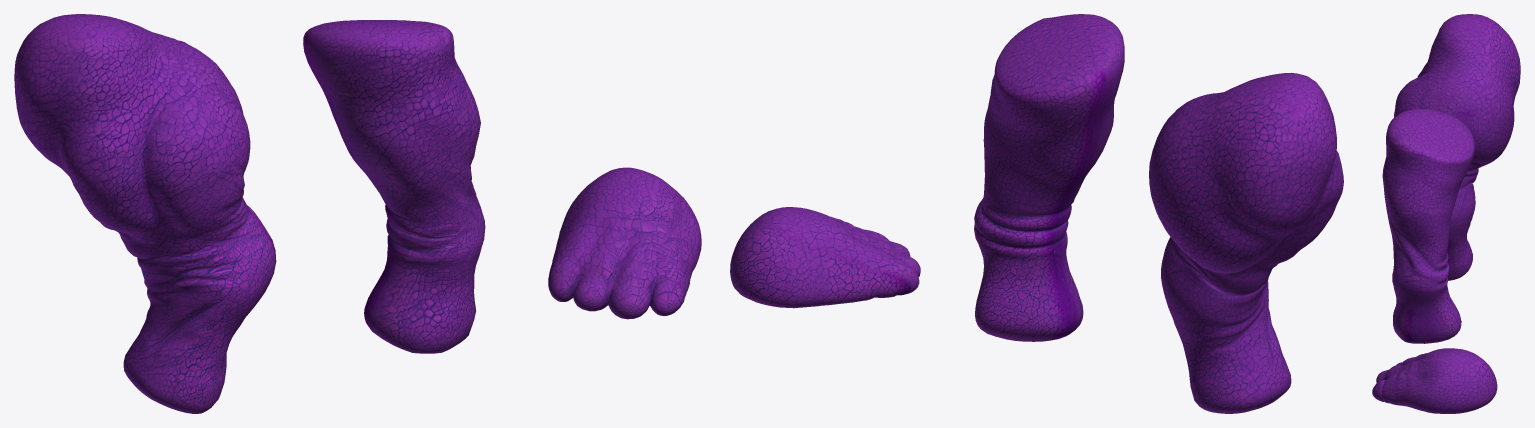
The model's file is quadruped_legs.glb.
The picture shows the model from 3 angles, left to right: view 1: azimuth 30°, elevation 25°; view 2: azimuth 150°, elevation 25°; view 3: azimuth 270°, elevation 25°; orthographic projection. The views are drawn at different scales.
Parts seen in each view (by area): view 1: tripo_node_778d5825-de34-4943-9d63-72d9259e9b56; view 2: tripo_node_778d5825-de34-4943-9d63-72d9259e9b56; view 3: tripo_node_778d5825-de34-4943-9d63-72d9259e9b56.
Boxes of the visible parts, left/top/right/bottom form: tripo_node_778d5825-de34-4943-9d63-72d9259e9b56: left=14, top=14, right=701, bottom=413; tripo_node_778d5825-de34-4943-9d63-72d9259e9b56: left=730, top=14, right=1343, bottom=413; tripo_node_778d5825-de34-4943-9d63-72d9259e9b56: left=1372, top=14, right=1520, bottom=413.
Bounding box in the file's own units: 0.9995 × 0.5679 × 0.3237.
Materials: 1 (1 with a texture image).
